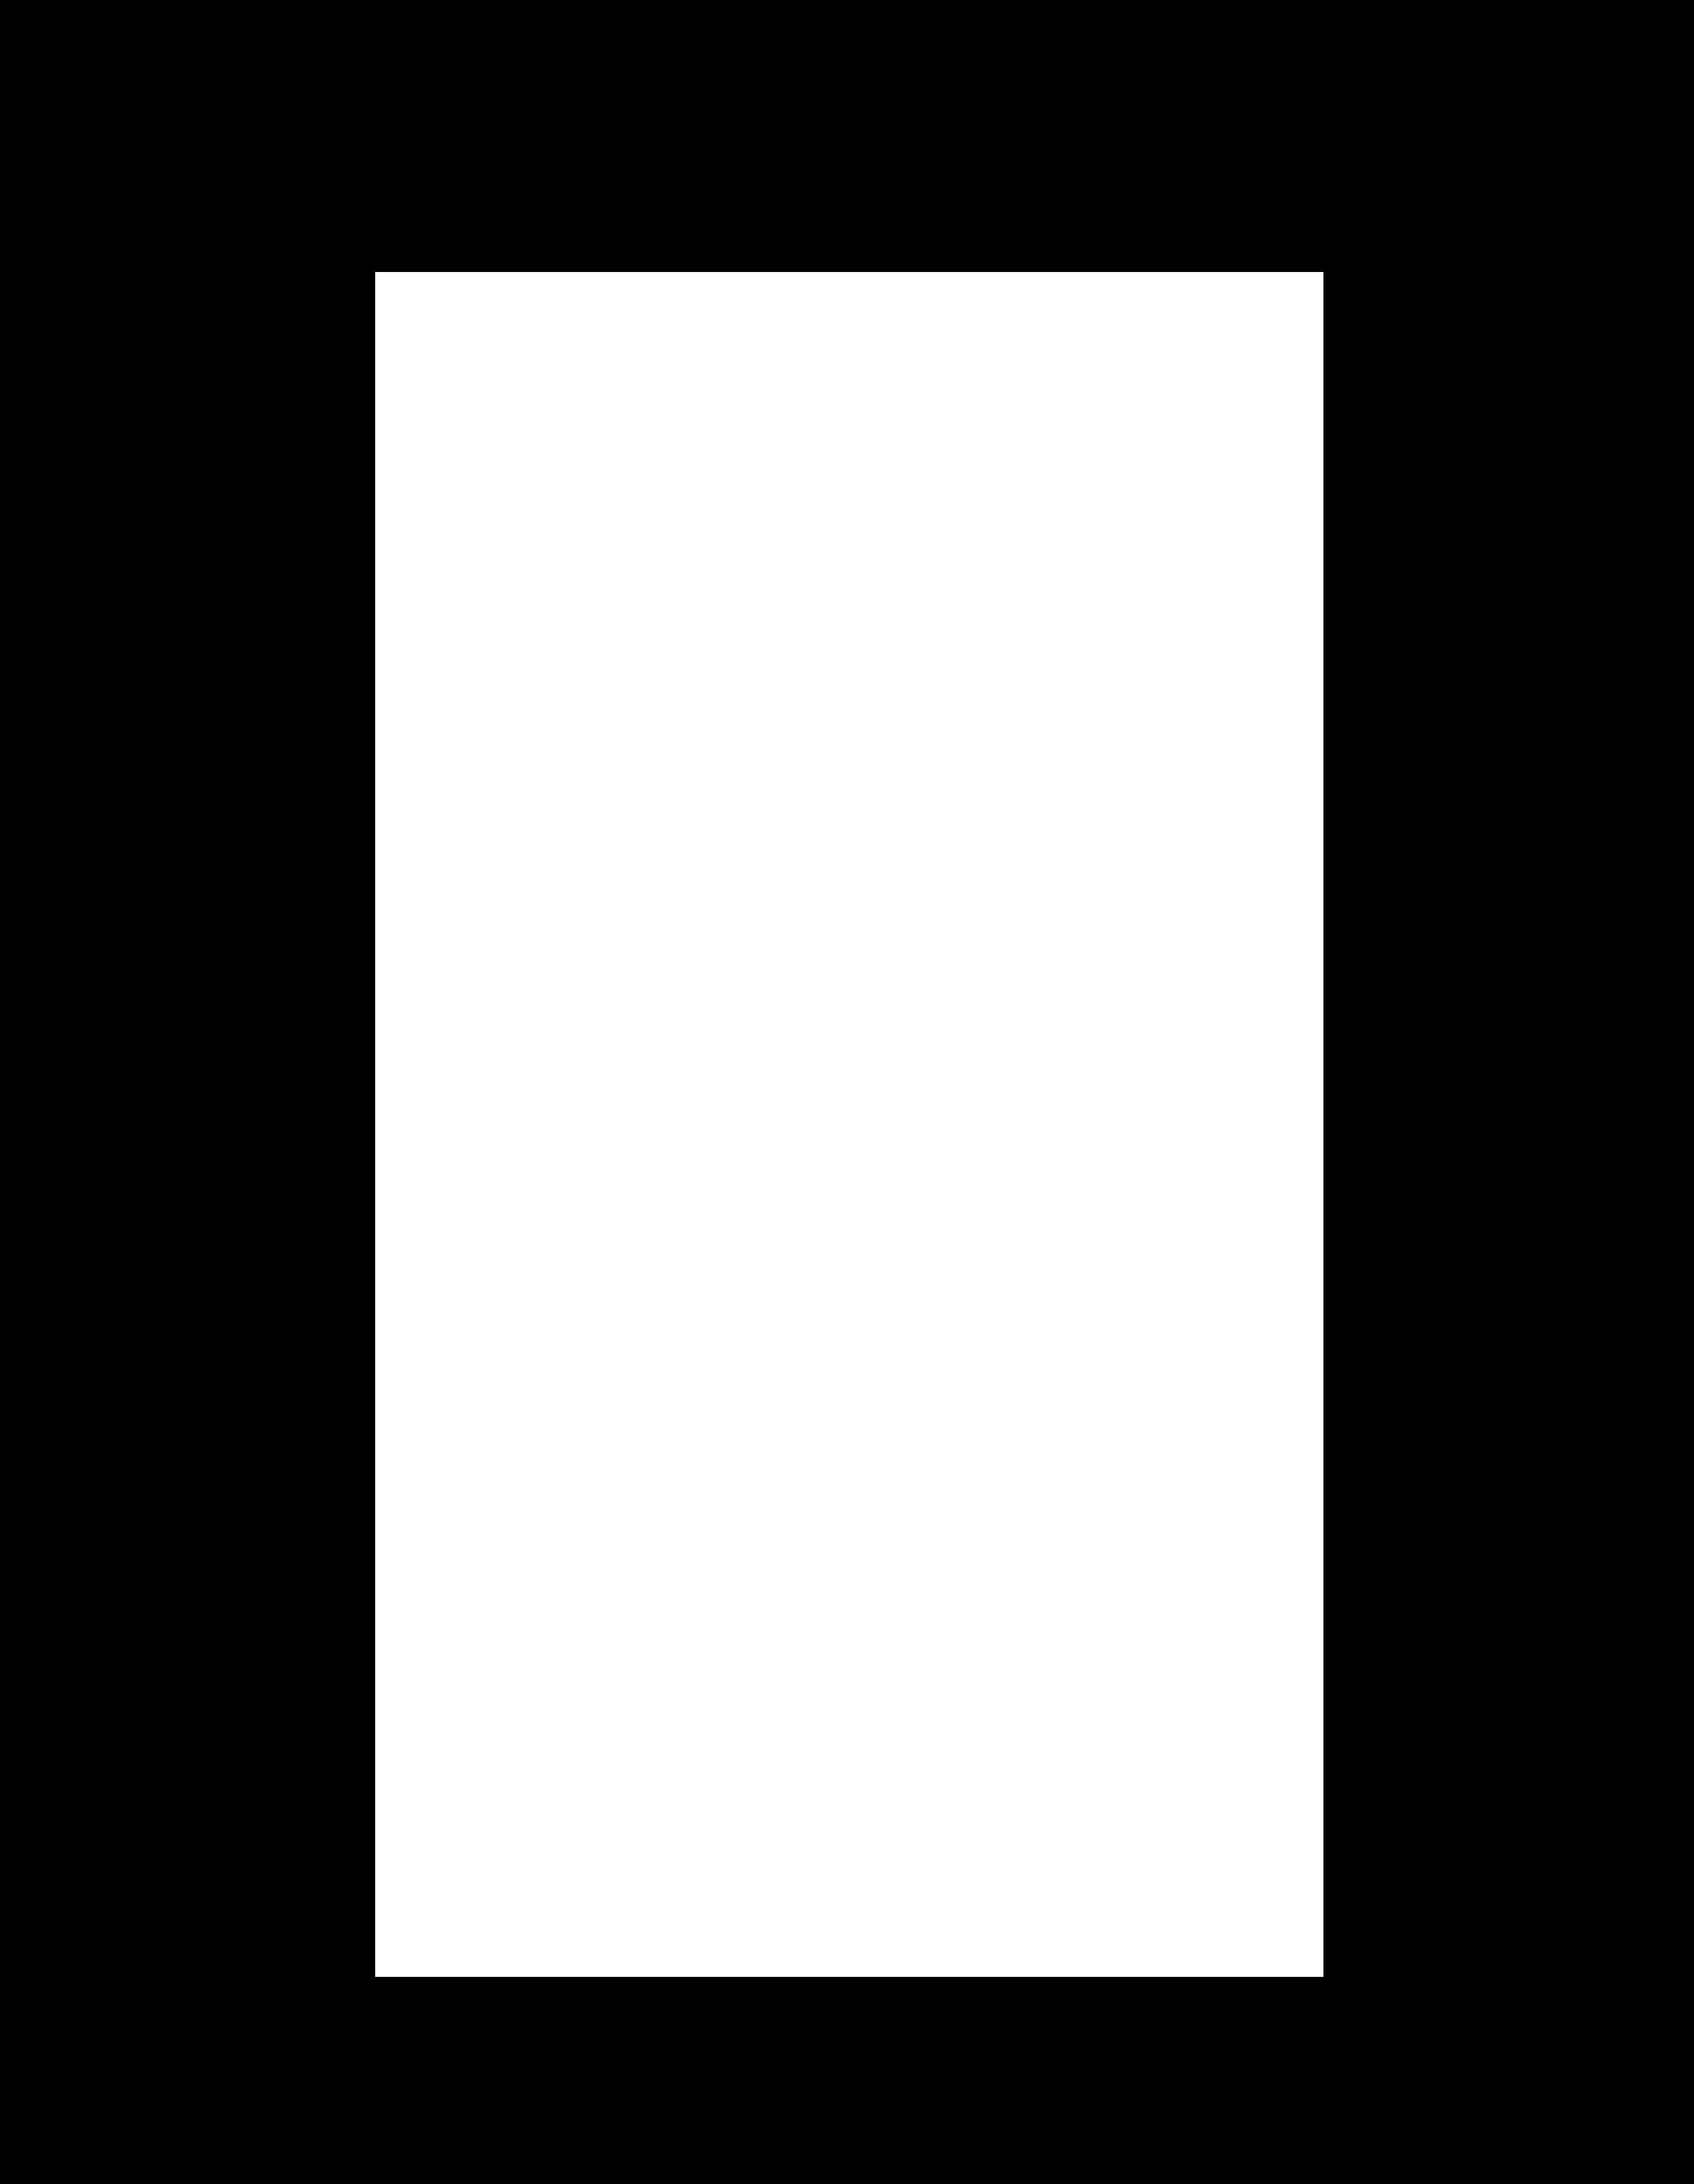table: (376, 271, 1324, 1977)
